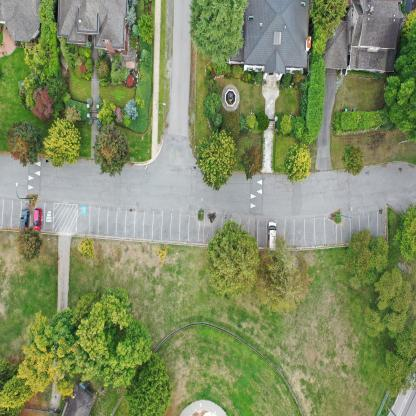Coniferous Tree: (206, 223, 260, 293), (366, 265, 416, 336), (126, 357, 178, 416), (194, 0, 238, 66), (266, 241, 306, 312), (346, 229, 388, 284), (382, 328, 416, 390), (7, 121, 42, 169), (93, 133, 129, 178), (0, 373, 43, 410), (312, 0, 339, 36), (398, 208, 416, 257), (341, 146, 366, 176), (241, 149, 262, 177)
Deciduous Tree: (75, 290, 147, 394), (16, 316, 72, 391), (198, 129, 232, 188), (47, 118, 82, 163), (285, 147, 309, 187), (16, 229, 42, 261), (78, 234, 92, 258)
